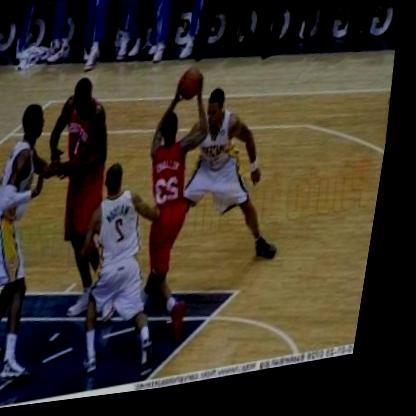basketball: (177, 68, 207, 106)
